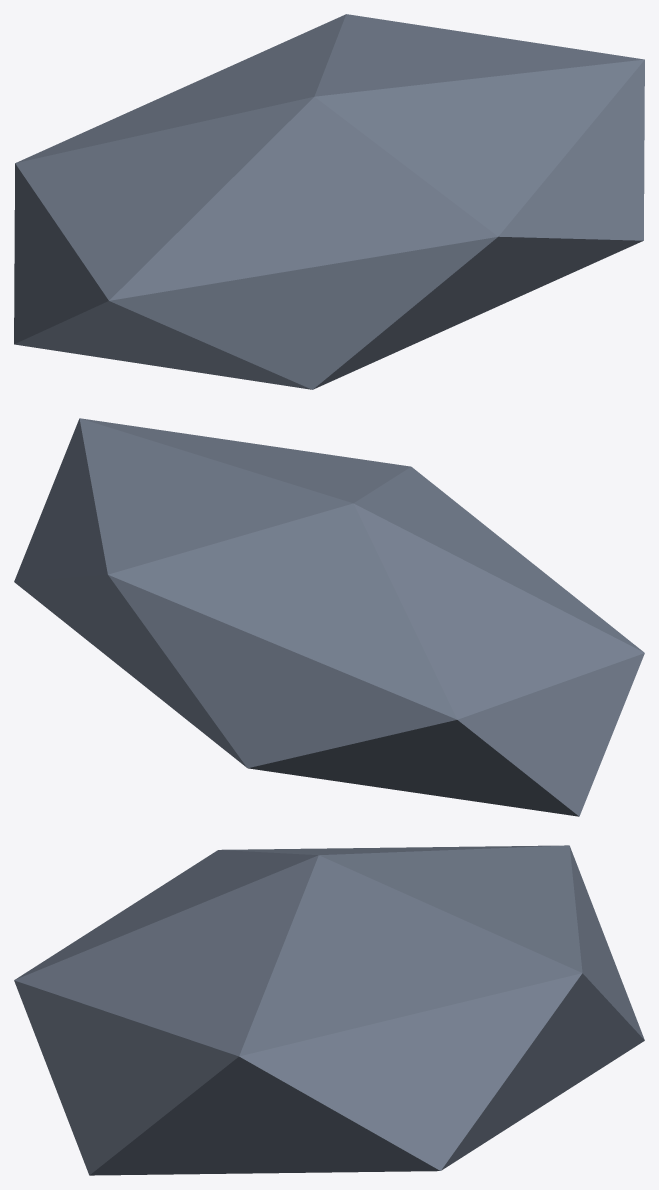
File: EXTG_NorthLooseStone_00.glb
The picture shows the model from 3 angles, top to bottom: view 1: azimuth 30°, elevation 25°; view 2: azimuth 150°, elevation 25°; view 3: azimuth 270°, elevation 25°; orthographic projection. The views are drawn at different scales.
Visible parts, largest first — view 1: EXTG_NorthLooseStone_00; view 2: EXTG_NorthLooseStone_00; view 3: EXTG_NorthLooseStone_00.
Boxes of the visible parts, left/top/right/bottom form: EXTG_NorthLooseStone_00: left=14, top=14, right=644, bottom=389; EXTG_NorthLooseStone_00: left=14, top=418, right=644, bottom=816; EXTG_NorthLooseStone_00: left=14, top=845, right=644, bottom=1175.
Bounding box in the file's own units: 1.04 × 0.402 × 0.8017.
